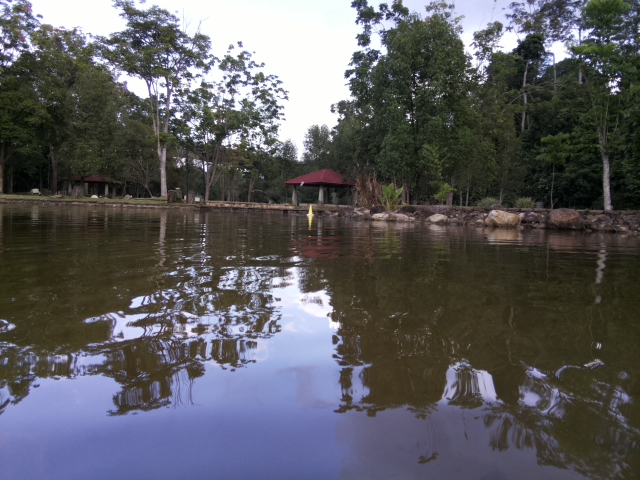checkpoint: (303, 203, 317, 219)
